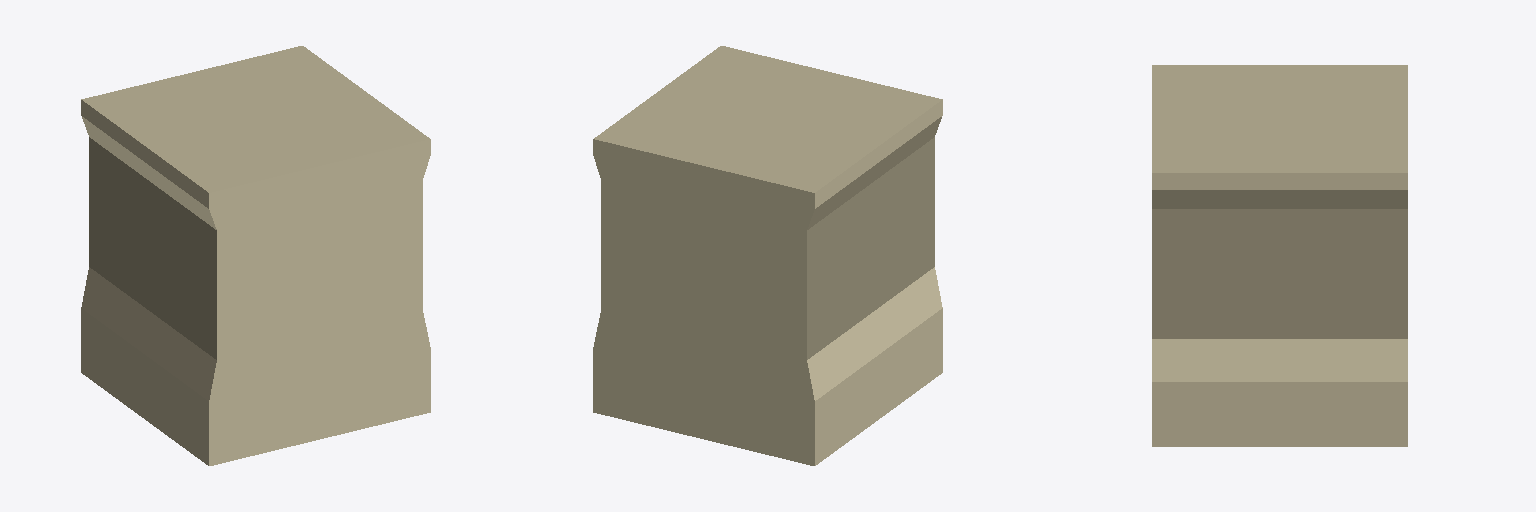
The model's file is wallFlat.obj.
The picture shows the model from 3 angles: view 1: azimuth 30°, elevation 25°; view 2: azimuth 150°, elevation 25°; view 3: azimuth 270°, elevation 25°; orthographic projection.
Visible parts, largest first — view 1: wallHalf; view 2: wallHalf; view 3: wallHalf.
Boxes of the visible parts, x1=… form: wallHalf: x1=81, y1=46, x2=430, y2=465; wallHalf: x1=593, y1=46, x2=942, y2=465; wallHalf: x1=1152, y1=65, x2=1407, y2=446.
Bounding box in the file's own units: 10 × 11.8 × 10.